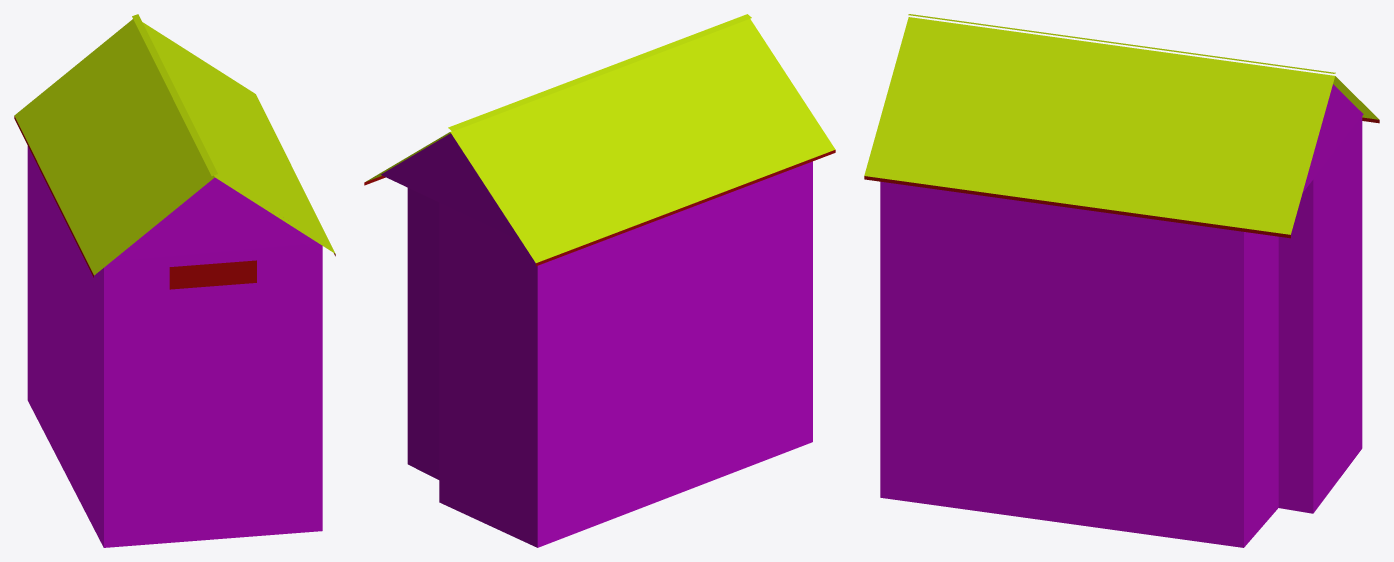
Rendered from bgj_250.glb.
The picture shows the model from 3 angles, left to right: view 1: azimuth 30°, elevation 25°; view 2: azimuth 150°, elevation 25°; view 3: azimuth 270°, elevation 25°; orthographic projection. The views are drawn at different scales.
Parts seen in each view (by area): view 1: bgj_250; view 2: bgj_250; view 3: bgj_250.
Boxes of the visible parts, x1,y1,x2,y2 form: bgj_250: (14, 14, 335, 547); bgj_250: (364, 14, 835, 547); bgj_250: (864, 14, 1379, 547).
Size of the model in its own units: 12.91 by 14.89 by 16.17.
